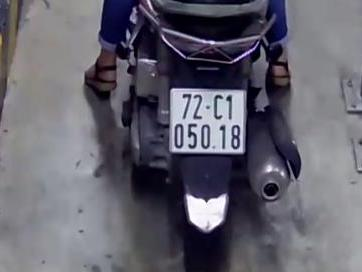num_plate: (168, 85, 247, 158)
